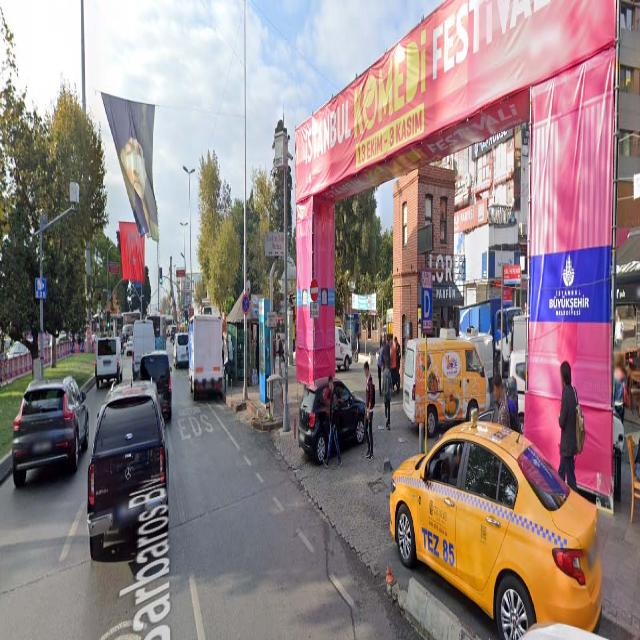durak: (422, 288, 432, 320)
girisyok: (310, 280, 318, 302)
parkyasak: (242, 295, 250, 315)
yesil: (158, 266, 162, 285), (107, 310, 109, 329)
